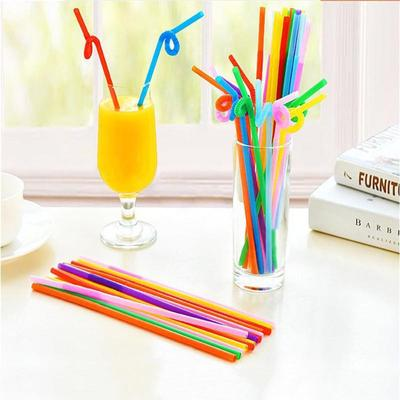Drinking Straw: (70, 6, 126, 112)
